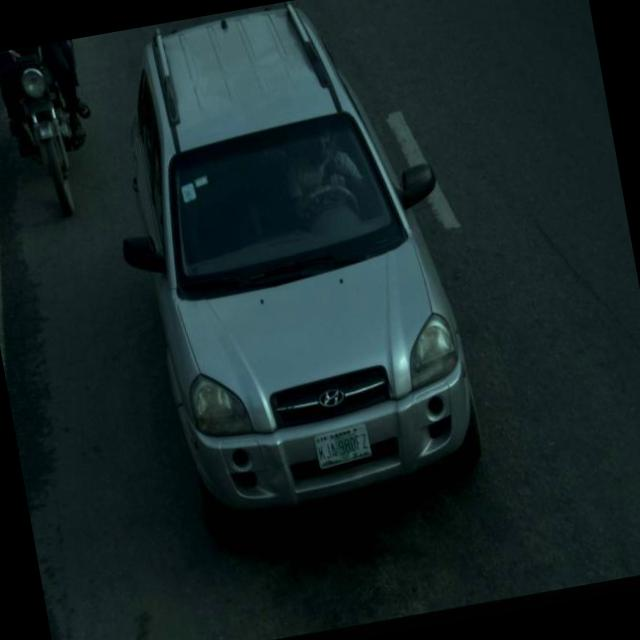person_with_seatbelt: (260, 116, 378, 250)
